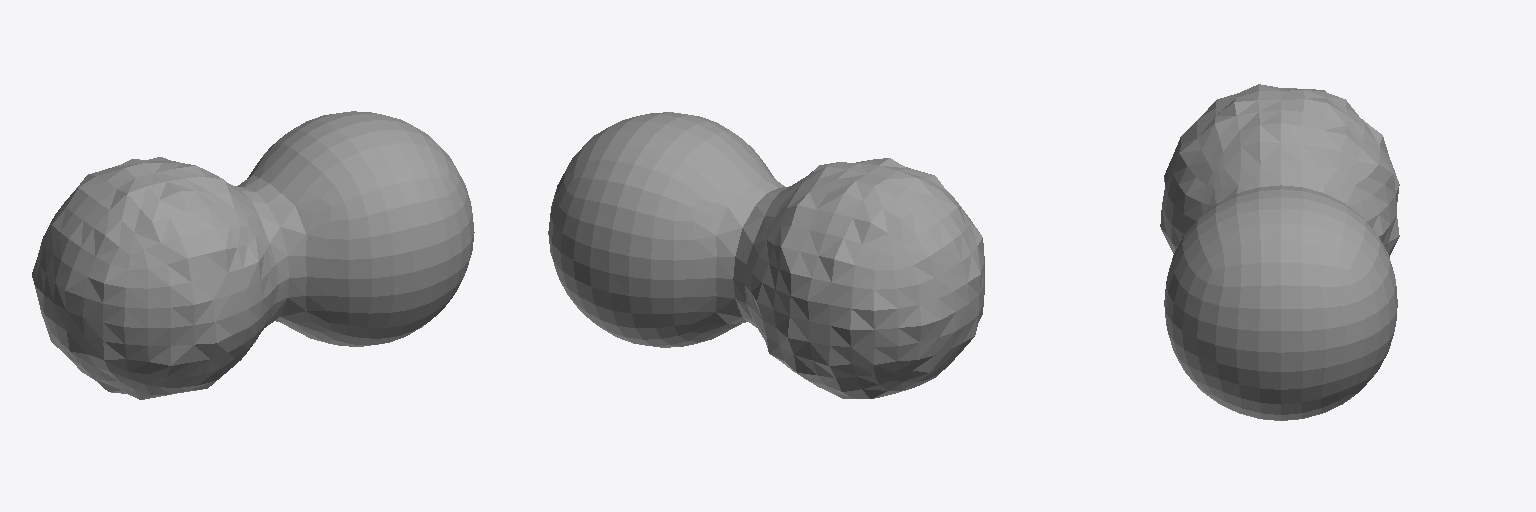
Rendered from HikeGardenPeanutPlanet.obj.
The picture shows the model from 3 angles: view 1: azimuth 30°, elevation 25°; view 2: azimuth 150°, elevation 25°; view 3: azimuth 270°, elevation 25°; orthographic projection.
Visible parts, largest first — view 1: peanutplanet.obj.001_peanutplanet.obj.003; view 2: peanutplanet.obj.001_peanutplanet.obj.003; view 3: peanutplanet.obj.001_peanutplanet.obj.003.
Boxes of the visible parts, x1=… form: peanutplanet.obj.001_peanutplanet.obj.003: x1=32, y1=111, x2=474, y2=399; peanutplanet.obj.001_peanutplanet.obj.003: x1=548, y1=112, x2=984, y2=398; peanutplanet.obj.001_peanutplanet.obj.003: x1=1160, y1=84, x2=1399, y2=420.
Bounding box in the file's own units: 1825 × 936 × 937.